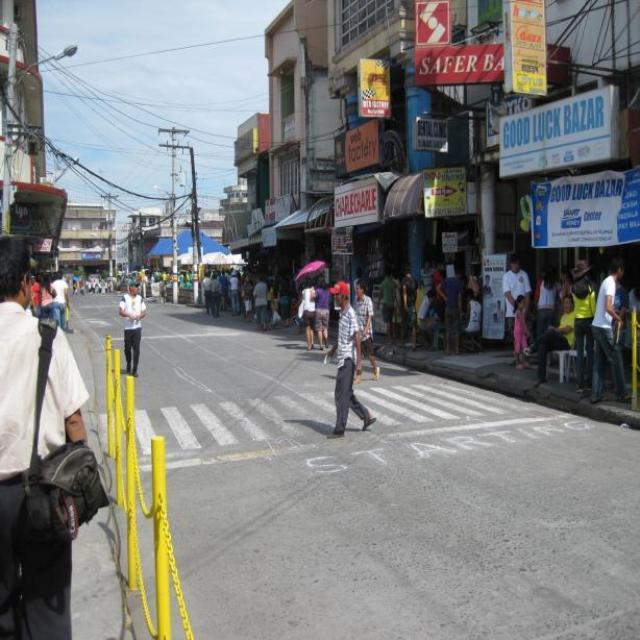pedestrian lane: (101, 382, 559, 476)
